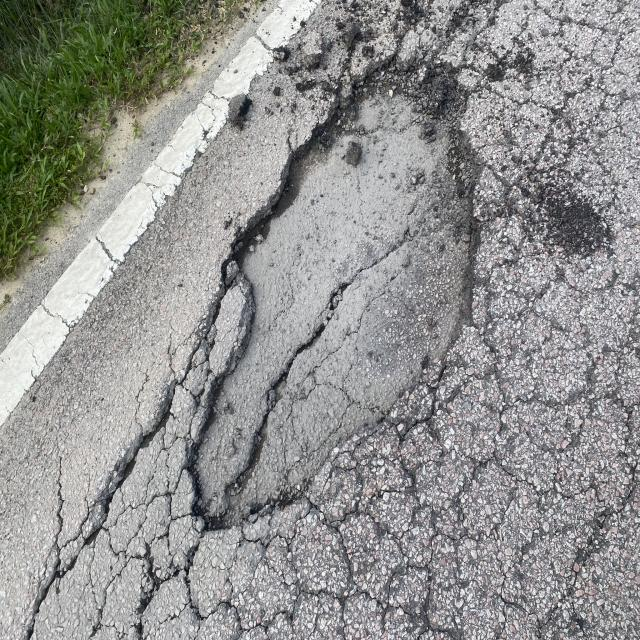pothole: (165, 38, 547, 584)
